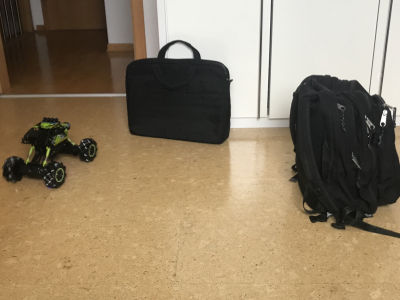remote control car: (1, 110, 99, 194)
